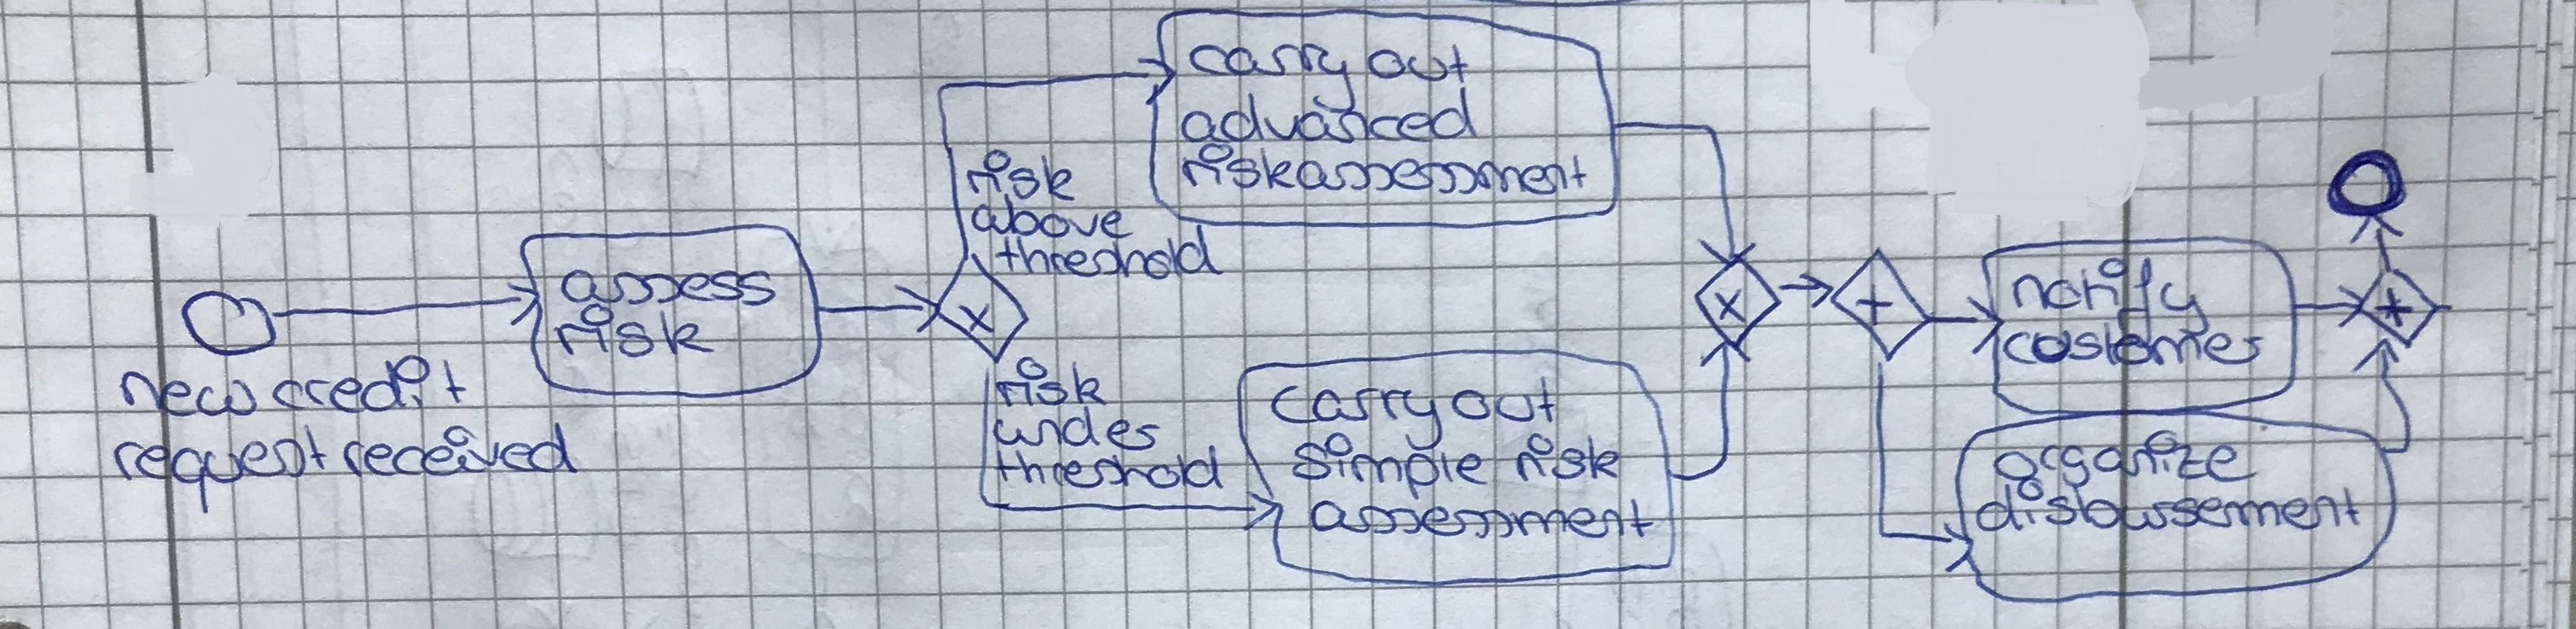above: (966, 191, 1138, 245)
advanced: (1175, 82, 1485, 148)
assess: (555, 263, 780, 310)
assessment: (1306, 494, 1658, 545)
carry: (1183, 34, 1360, 118), (1267, 381, 1447, 453)
credit: (266, 351, 471, 419)
customer: (2001, 319, 2272, 374)
disbursement: (1970, 475, 2366, 537)
new: (113, 363, 263, 424)
notify: (2008, 253, 2215, 350)
organize: (1988, 427, 2264, 493)
out: (1447, 371, 1561, 429), (1362, 39, 1474, 90)
received: (338, 416, 583, 483)
request: (108, 419, 332, 517)
risk: (549, 305, 721, 363), (961, 143, 1081, 207), (991, 353, 1111, 414), (1511, 429, 1625, 486)
riskassessment: (1176, 138, 1592, 202)
simple: (1288, 429, 1493, 504)
threshold: (992, 222, 1227, 284), (987, 440, 1229, 494)
under: (987, 402, 1168, 458)
